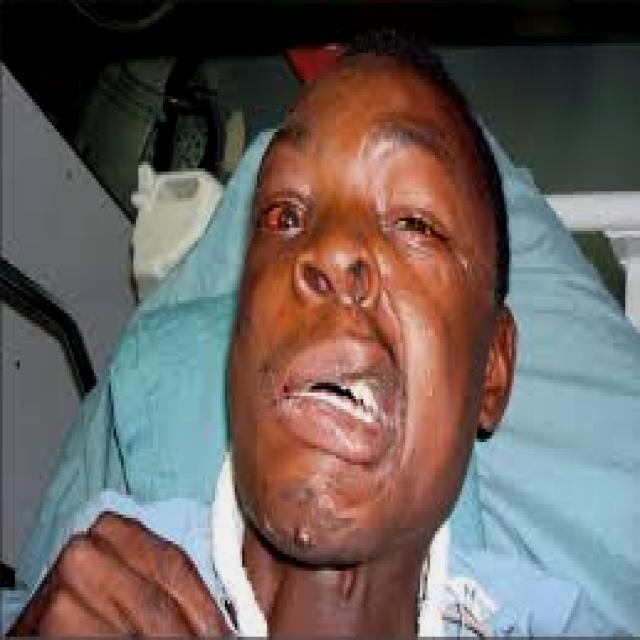stroke_face: (272, 115, 478, 624)
